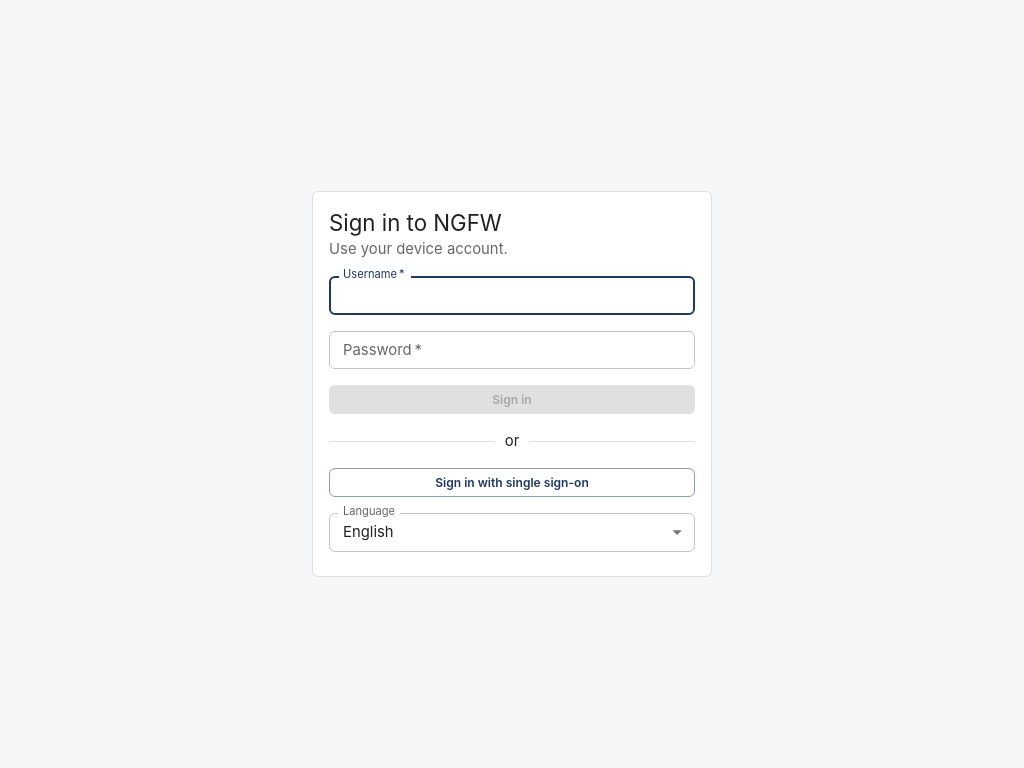
Test: F-aaa-login web › login page: password → MFA code step → signed in; SSO button when OIDC is offered
Type "admin" into the field labelled "Username *".
click(512, 295); type("admin")  # box x1=329 y1=276 x2=695 y2=314
Type "pw" into the password field labelled "Password *".
click(512, 350); type("pw")  # box x1=329 y1=330 x2=695 y2=369
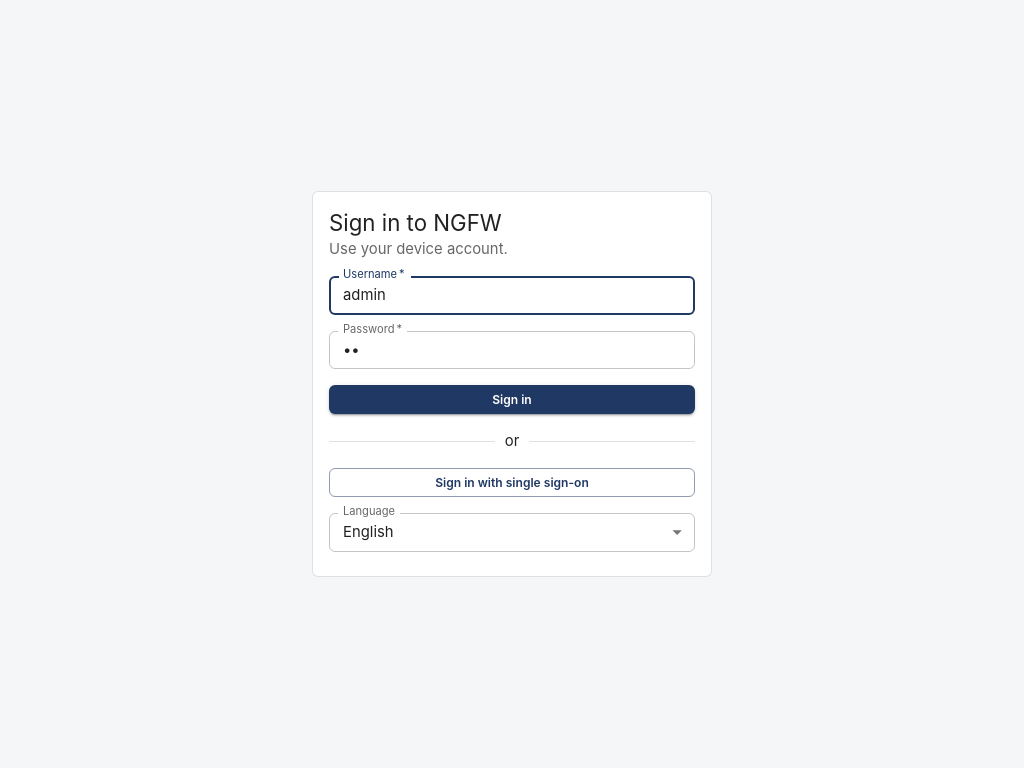
Click the button "Sign in".
click(512, 399)  # box x1=329 y1=385 x2=695 y2=414
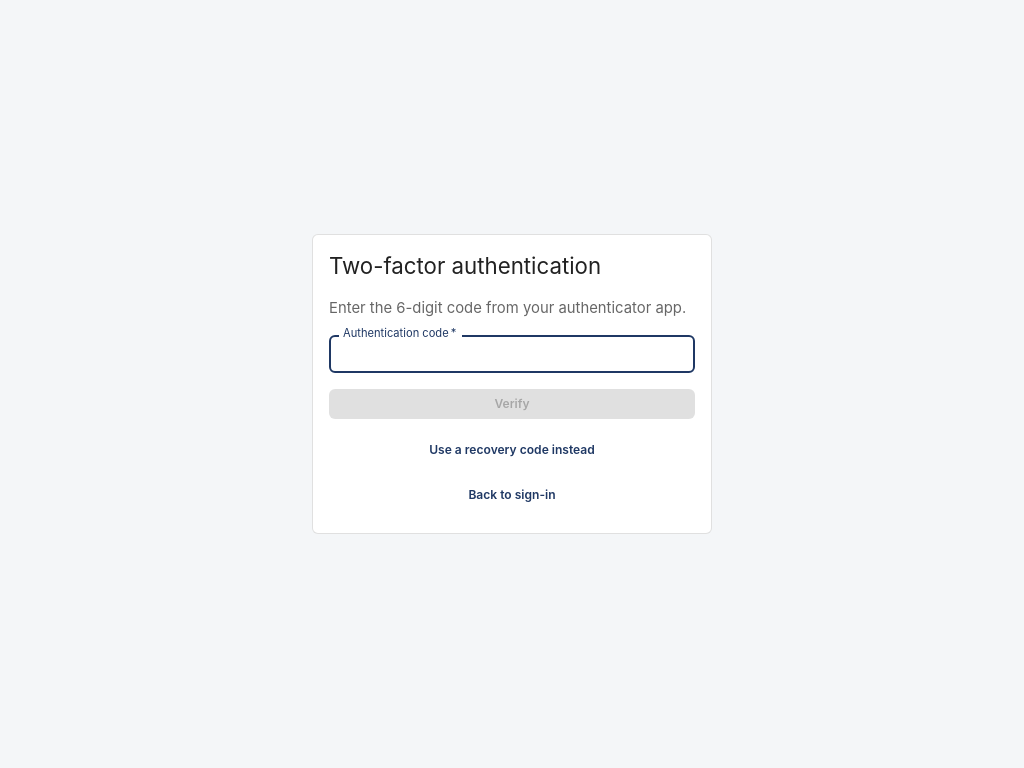
Type "000000" into the field labelled "Authentication code *".
click(512, 354); type("000000")  # box x1=329 y1=335 x2=695 y2=373
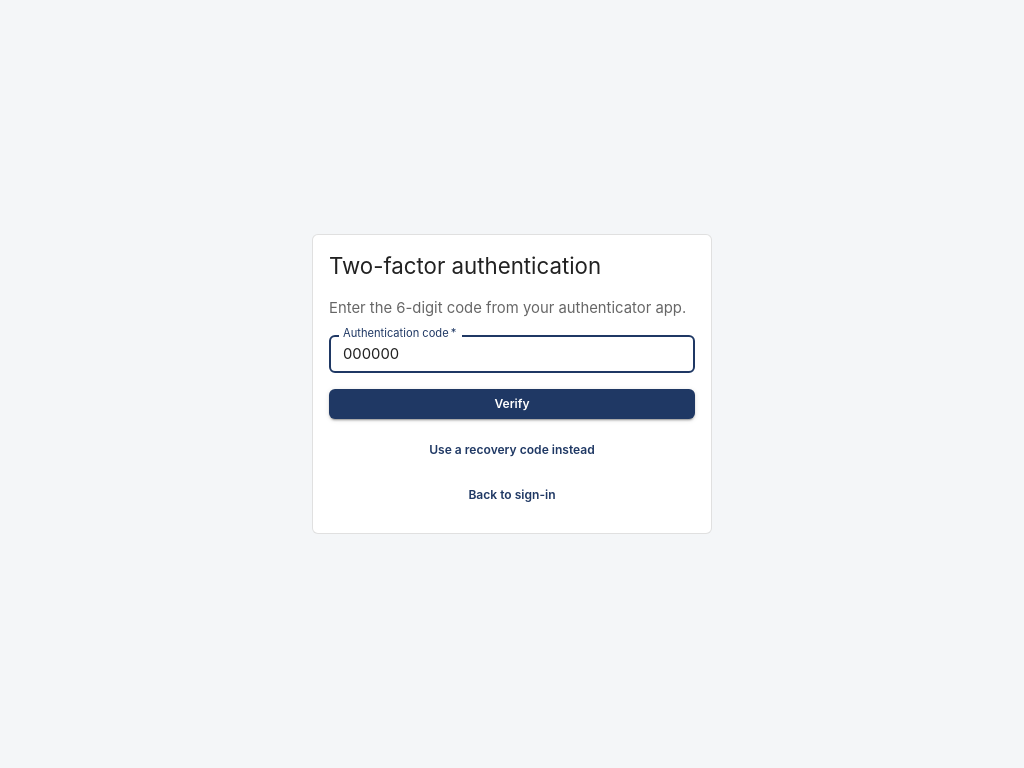
Click the button "Verify".
click(512, 404)  # box x1=329 y1=390 x2=695 y2=419
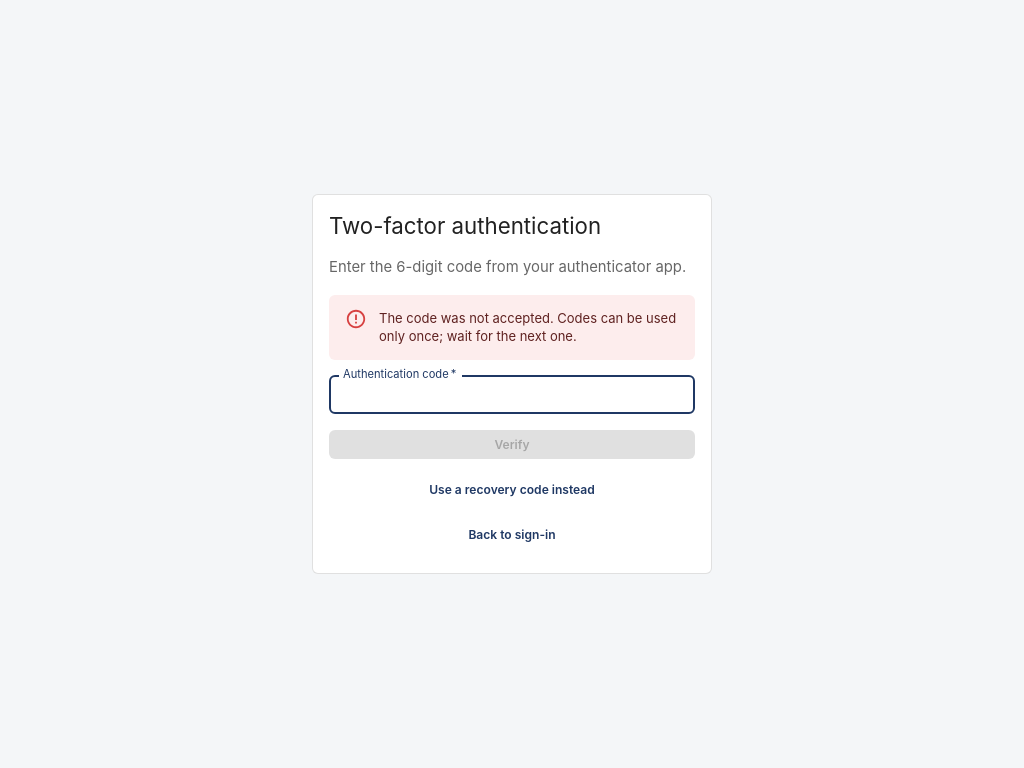
Result: the message shows "not accepted" at x1=379 y1=310 x2=676 y2=344
Type "123456" into the field labelled "Authentication code *".
click(512, 395); type("123456")  # box x1=329 y1=376 x2=695 y2=414
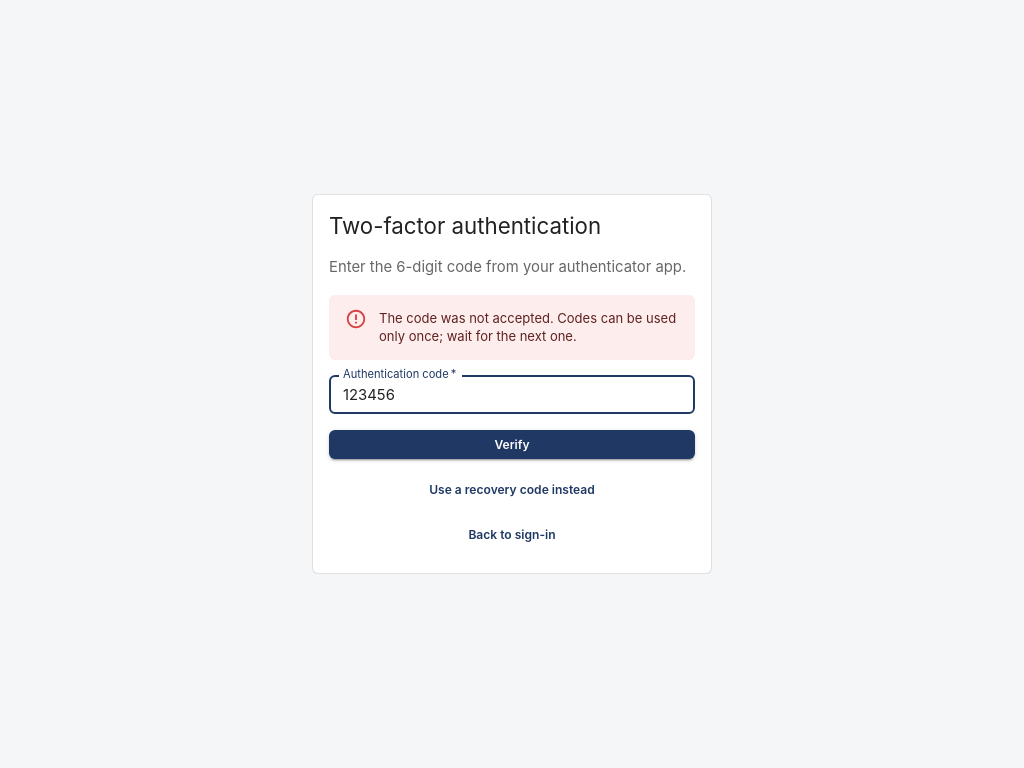
Click the button "Verify".
click(512, 445)  # box x1=329 y1=430 x2=695 y2=459
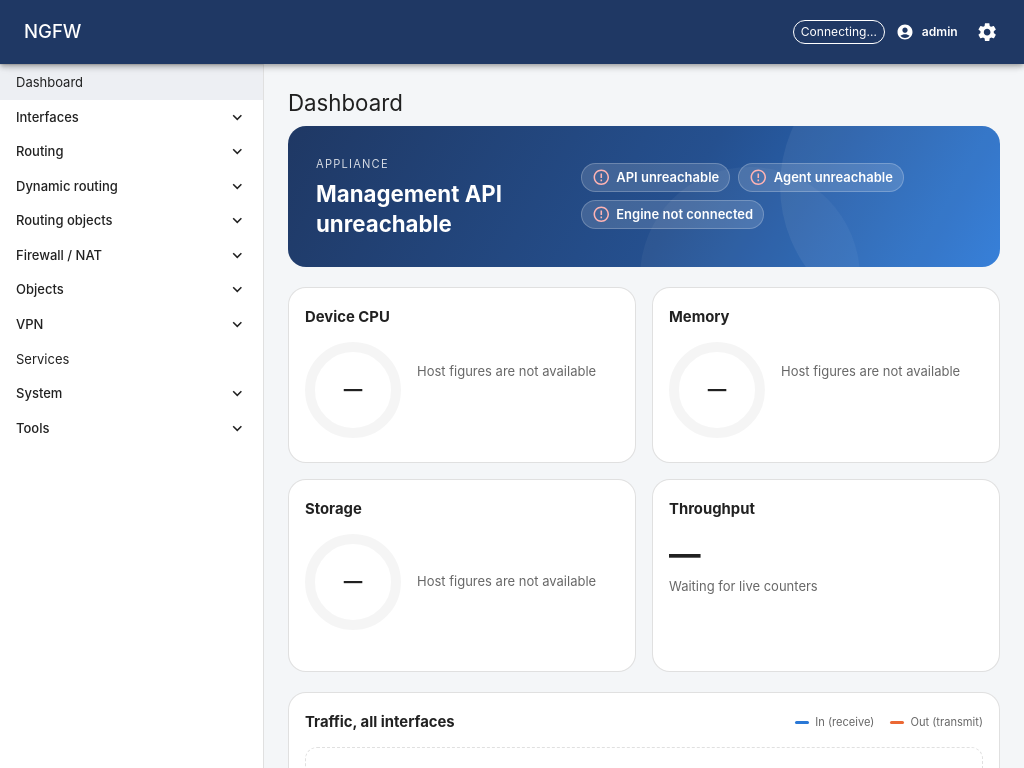
Result: the label labelled "Authentication code" is gone
